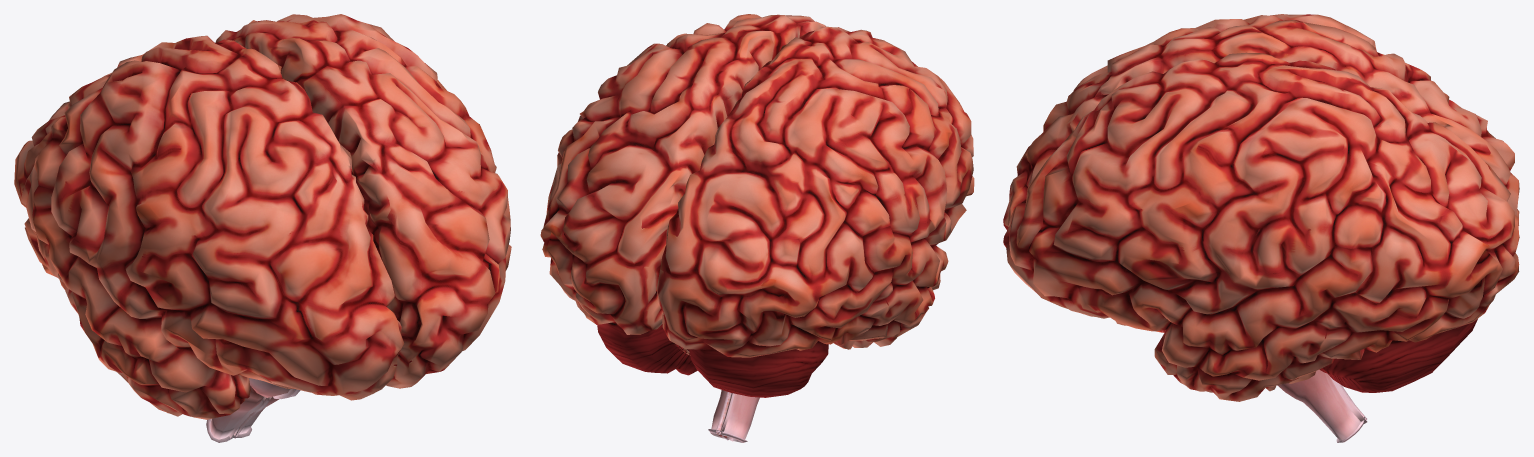
The model's file is Brain.glb.
The picture shows the model from 3 angles, left to right: view 1: azimuth 30°, elevation 25°; view 2: azimuth 150°, elevation 25°; view 3: azimuth 270°, elevation 25°; orthographic projection. The views are drawn at different scales.
Visible parts, largest first — view 1: Brain.001, Brain; view 2: Brain.001, Brain; view 3: Brain, Brain.001.
Part boxes in pixels (left/top/right/bottom): Brain.001: left=14, top=35, right=404, bottom=442; Brain: left=215, top=14, right=511, bottom=438; Brain.001: left=656, top=26, right=974, bottom=442; Brain: left=540, top=14, right=825, bottom=440; Brain: left=1003, top=52, right=1519, bottom=442; Brain.001: left=1003, top=14, right=1519, bottom=419.
Size of the model in its own units: 0.4873 by 0.5063 by 0.6014.
Materials: 1 (1 with a texture image).
